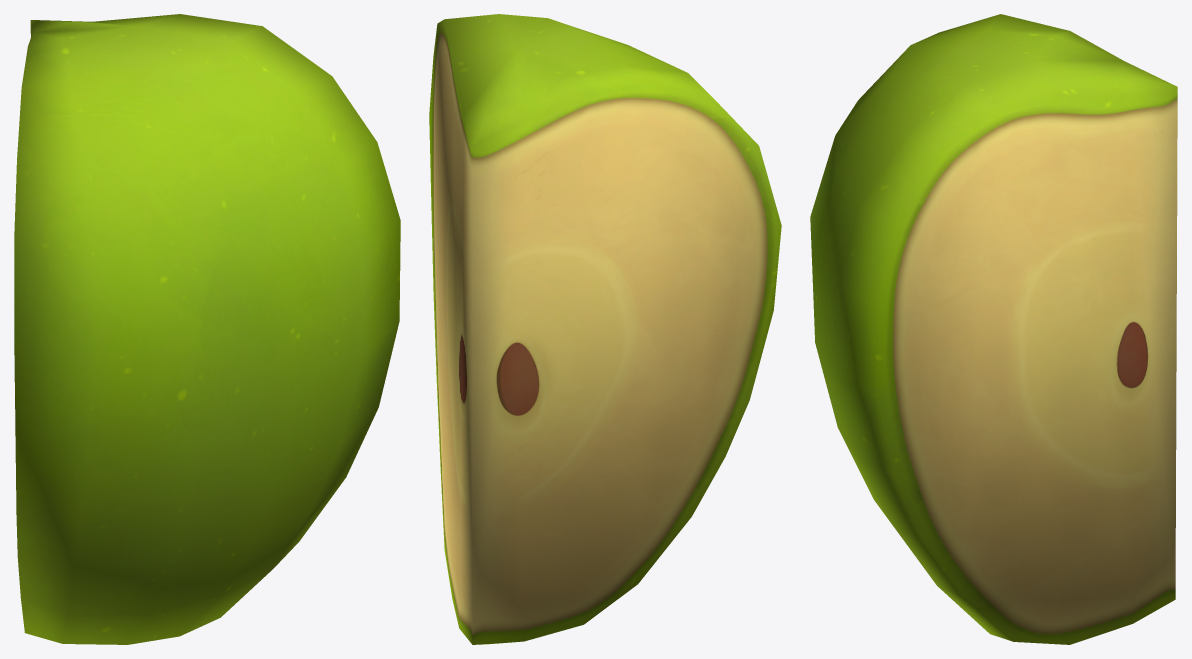
File: appleSlice.fbx
The picture shows the model from 3 angles, left to right: view 1: azimuth 30°, elevation 25°; view 2: azimuth 150°, elevation 25°; view 3: azimuth 270°, elevation 25°; orthographic projection. The views are drawn at different scales.
Parts seen in each view (by area): view 1: APPLE_green_Piece; view 2: APPLE_green_Piece; view 3: APPLE_green_Piece.
Part boxes in pixels (x1,y1,x2,y2): APPLE_green_Piece: (14, 14, 400, 644); APPLE_green_Piece: (429, 14, 781, 644); APPLE_green_Piece: (810, 14, 1177, 644).
Size of the model in its own units: 4.8 by 7.26 by 4.24.
Materials: 1 (1 with a texture image).
